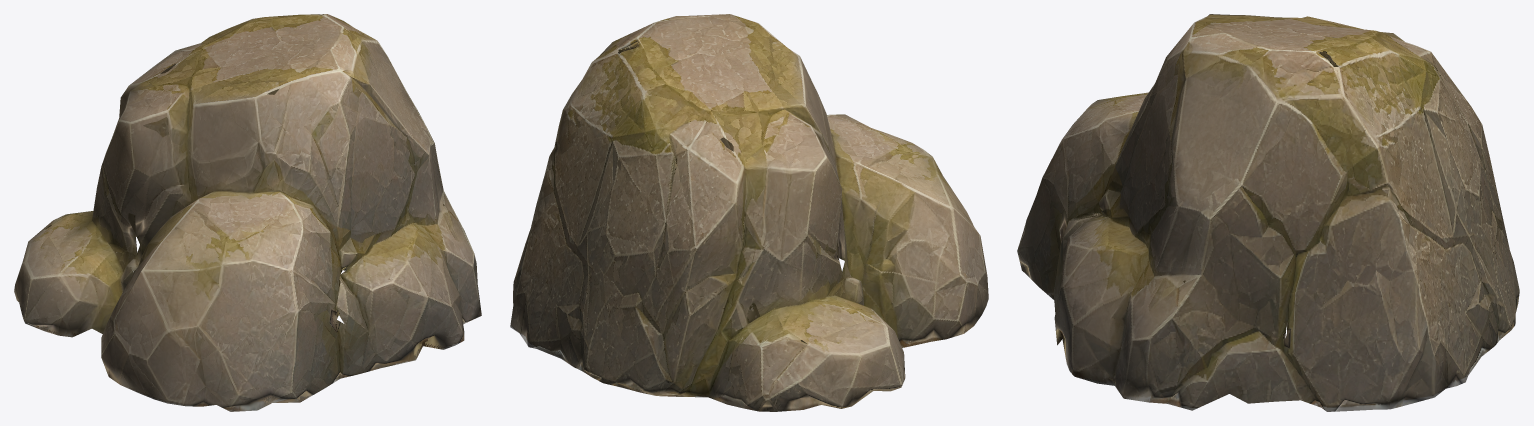
The model's file is P04_MossRocks.glb.
3 views of the same model, side by side, from view 1: azimuth 30°, elevation 25°; view 2: azimuth 150°, elevation 25°; view 3: azimuth 270°, elevation 25° (orthographic). The views are drawn at different scales.
Parts seen in each view (by area): view 1: texture_mapping; view 2: texture_mapping; view 3: texture_mapping.
Part boxes in pixels (left/top/right/bottom): texture_mapping: left=14, top=14, right=481, bottom=411; texture_mapping: left=510, top=14, right=988, bottom=411; texture_mapping: left=1017, top=14, right=1519, bottom=411.
Bounding box in the file's own units: 0.9993 × 0.6813 × 1.
1 material, 1 textured.
